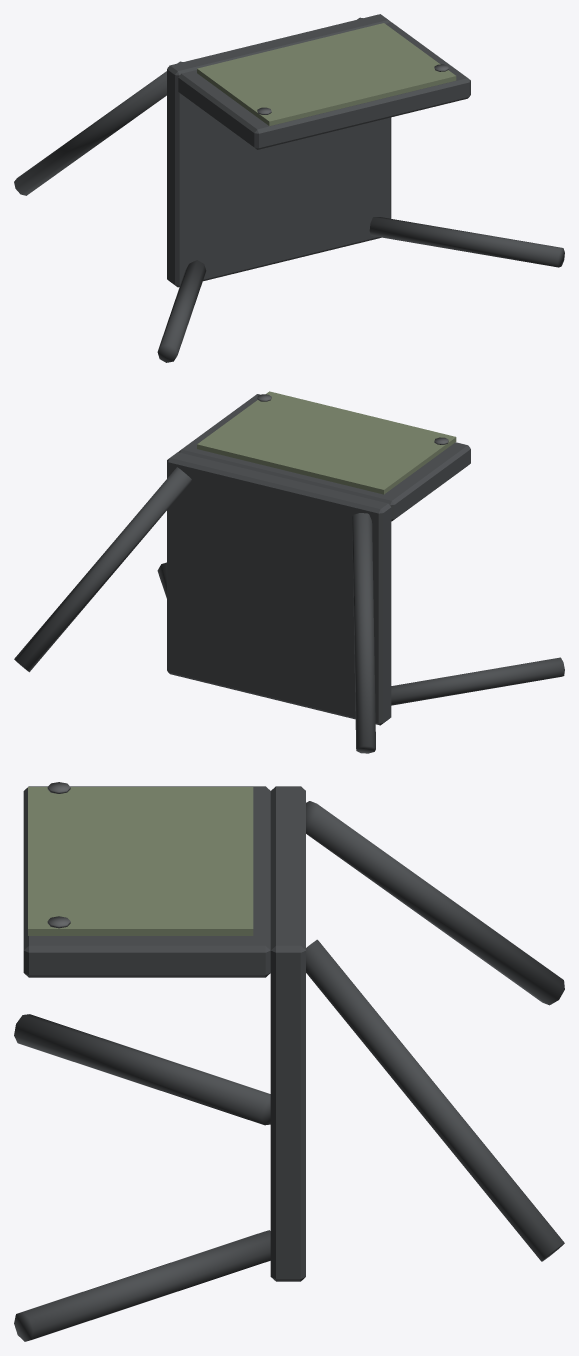
The model's file is chair_tipped.glb.
The picture shows the model from 3 angles, top to bottom: view 1: azimuth 30°, elevation 25°; view 2: azimuth 150°, elevation 25°; view 3: azimuth 270°, elevation 25°; orthographic projection. The views are drawn at different scales.
Parts seen in each view (by area): view 1: chair_tipped; view 2: chair_tipped; view 3: chair_tipped.
Boxes of the visible parts, bbox=[...] form: chair_tipped: bbox=[14, 14, 564, 362]; chair_tipped: bbox=[14, 391, 564, 753]; chair_tipped: bbox=[14, 782, 564, 1341].
Bounding box in the file's own units: 1.06 × 0.5568 × 0.7993.
